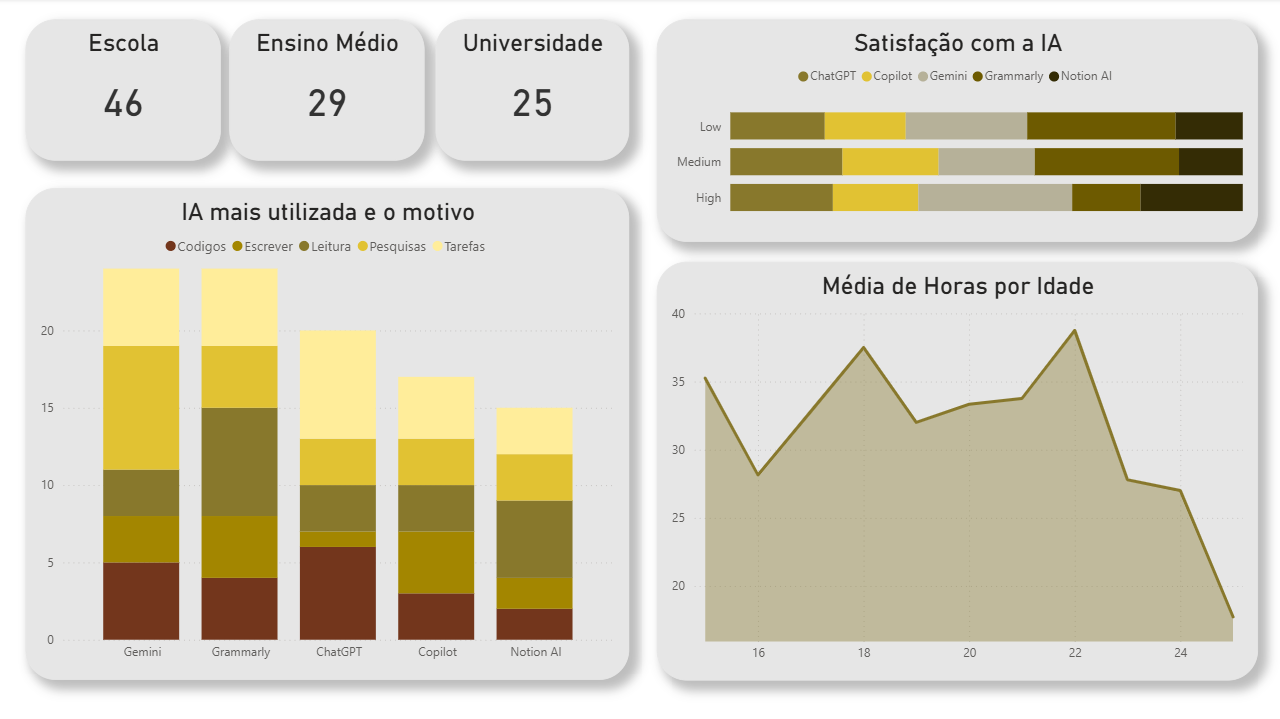

The page's visual inventory and layout, read from the dashboard file:
{"tool":"powerbi","page":{"name":"Ai - Student","canvas":[1280,720],"ordinal":0},"visuals":[{"type":"advanceCardE03760C5AB684758B56AA29F9E6C257B","title":"Escola","fields":{"mainMeasure":["CountNonNull(AI_Student_Life_Pakistan_2026.Student_ID)"]},"box":[27.4,21.1,194.1,140.6],"z":0},{"type":"advanceCardE03760C5AB684758B56AA29F9E6C257B","title":"Ensino Médio","fields":{"mainMeasure":["CountNonNull(AI_Student_Life_Pakistan_2026.Student_ID)"]},"box":[230.1,21.1,194.1,140.6],"z":1000},{"type":"advanceCardE03760C5AB684758B56AA29F9E6C257B","title":"Universidade","fields":{"mainMeasure":["CountNonNull(AI_Student_Life_Pakistan_2026.Student_ID)"]},"box":[435.4,21.1,192.8,140.6],"z":2000},{"type":"columnChart","title":"IA mais utilizada e o motivo ","fields":{"Category":["AI_Student_Life_Pakistan_2026.AI_Tool_Used"],"Y":["CountNonNull(AI_Student_Life_Pakistan_2026.Student_ID)"],"Series":["AI_Student_Life_Pakistan_2026.Purpose"]},"box":[27.4,189.4,601,489.9],"z":3000},{"type":"hundredPercentStackedBarChart","title":"Satisfação com a IA","fields":{"Category":["AI_Student_Life_Pakistan_2026.Satisfaction_Level"],"Series":["AI_Student_Life_Pakistan_2026.AI_Tool_Used"],"Y":["CountNonNull(AI_Student_Life_Pakistan_2026.Student_ID)"]},"box":[655.6,21.1,598.3,221.4],"z":3001},{"type":"areaChart","title":"Média de Horas por Idade","fields":{"Category":["AI_Student_Life_Pakistan_2026.Age"],"Y":["Avg(AI_Student_Life_Pakistan_2026.Daily_Usage_Hours)"]},"box":[655.6,262.5,598.3,416.7],"z":3002}]}

Visuals, with their boxes in screenshot pixels (x1, y1, x2, y2), scaled from the page's 1280x720 canvas onto the 1280x719 screenshot:
"Escola" advanceCardE03760C5AB684758B56AA29F9E6C257B: (27,21,222,161)
"Ensino Médio" advanceCardE03760C5AB684758B56AA29F9E6C257B: (230,21,424,161)
"Universidade" advanceCardE03760C5AB684758B56AA29F9E6C257B: (435,21,628,161)
"IA mais utilizada e o motivo " columnChart: (27,189,628,678)
"Satisfação com a IA" hundredPercentStackedBarChart: (656,21,1254,242)
"Média de Horas por Idade" areaChart: (656,262,1254,678)
